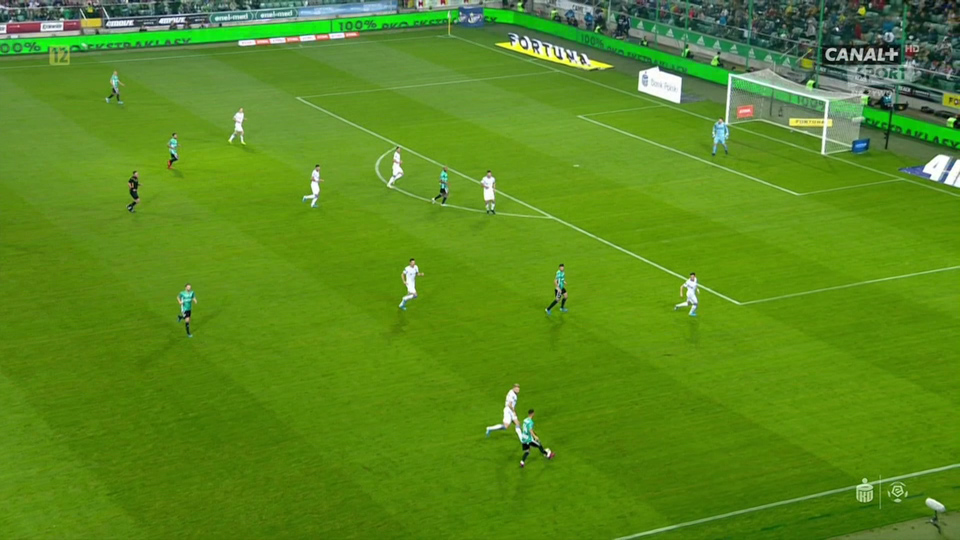Adidas: (663, 27, 675, 39), (696, 34, 706, 45), (713, 37, 721, 49)
